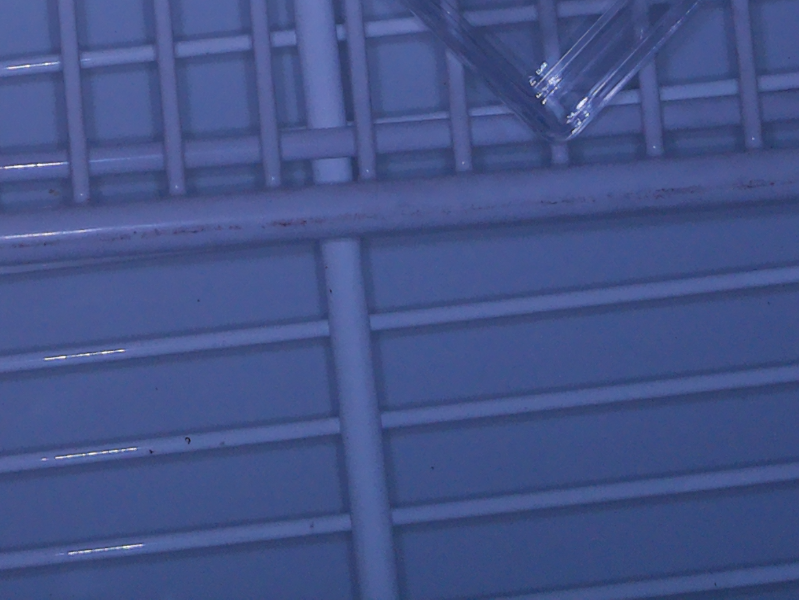plate: (400, 1, 699, 144)
